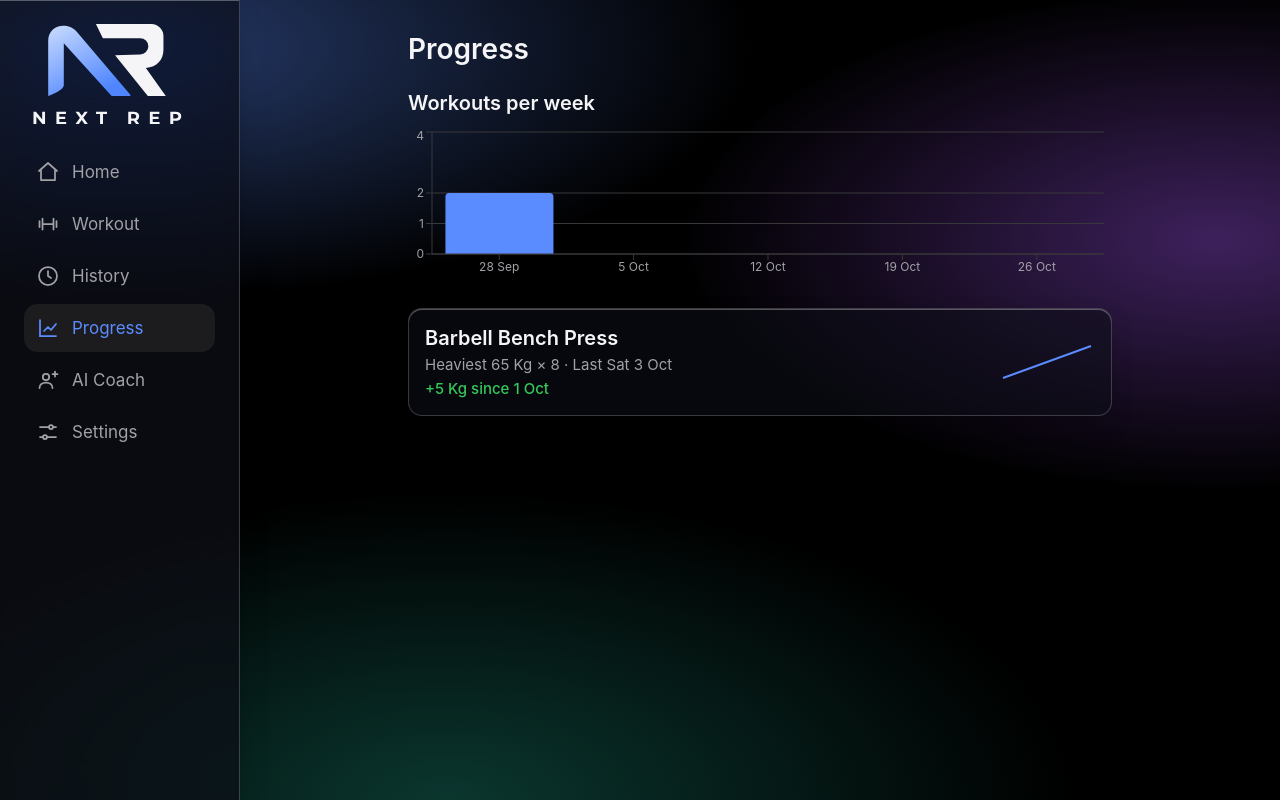
Test: signing in on a device with no history › fills Progress, with the same records as the device that logged them
Click the link "Barbell Bench Press".
click(522, 338)  # box [408, 308, 1112, 416]
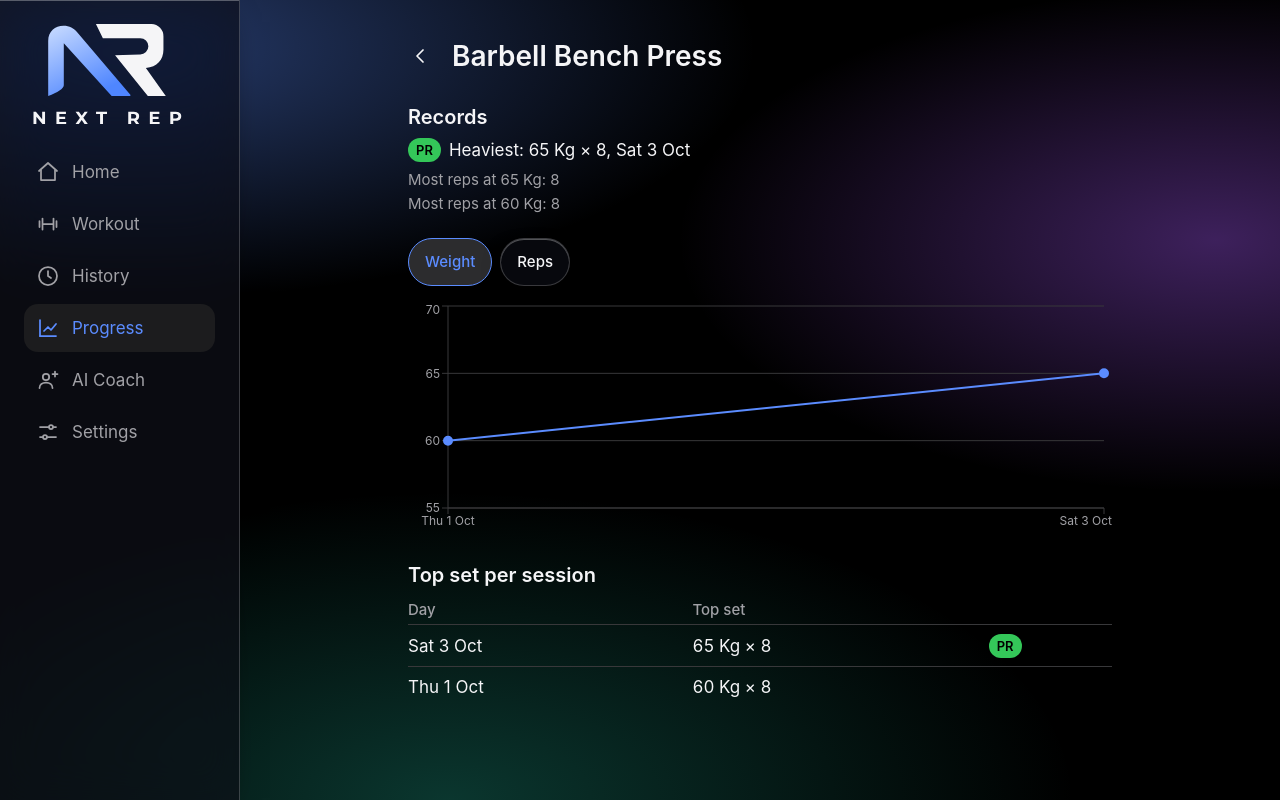
expect the element "Records" shows "Heaviest: 65 Kg × 8": met, box [408, 105, 690, 213]
expect the picture named "heaviest weight" is shown: met, box [989, 634, 1022, 658]
